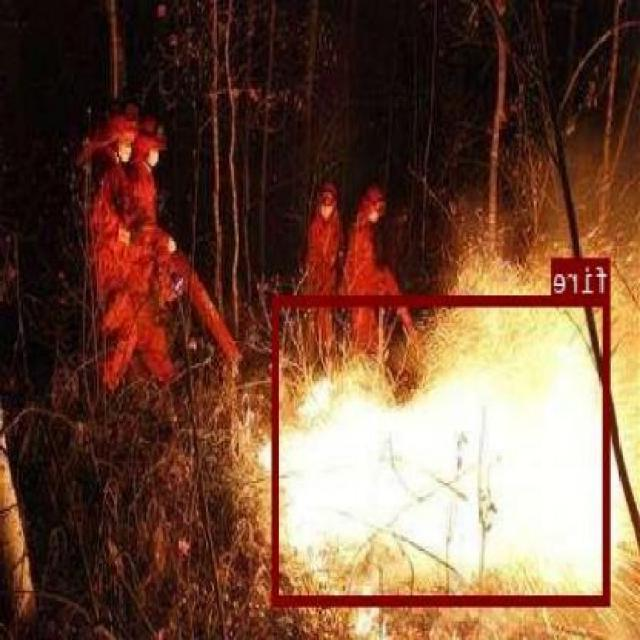Fire: (274, 296, 611, 604)
